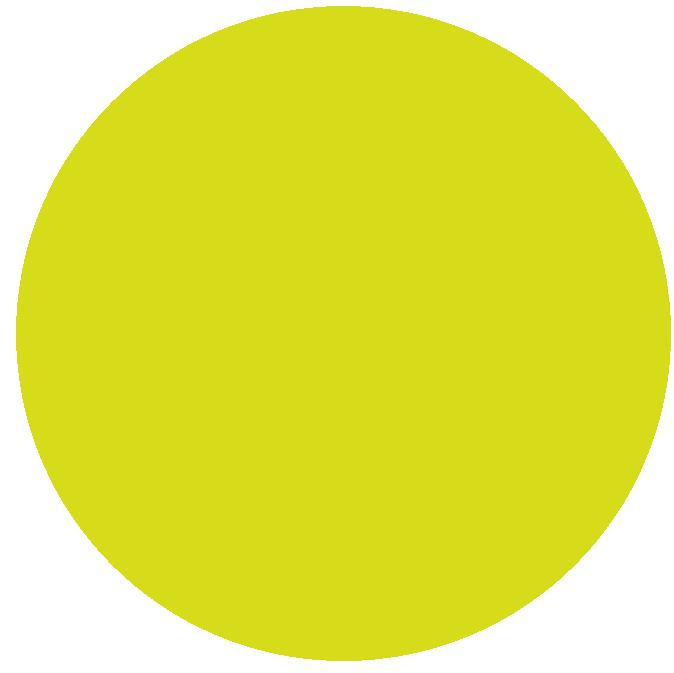yellow_circle: (12, 0, 674, 673)
